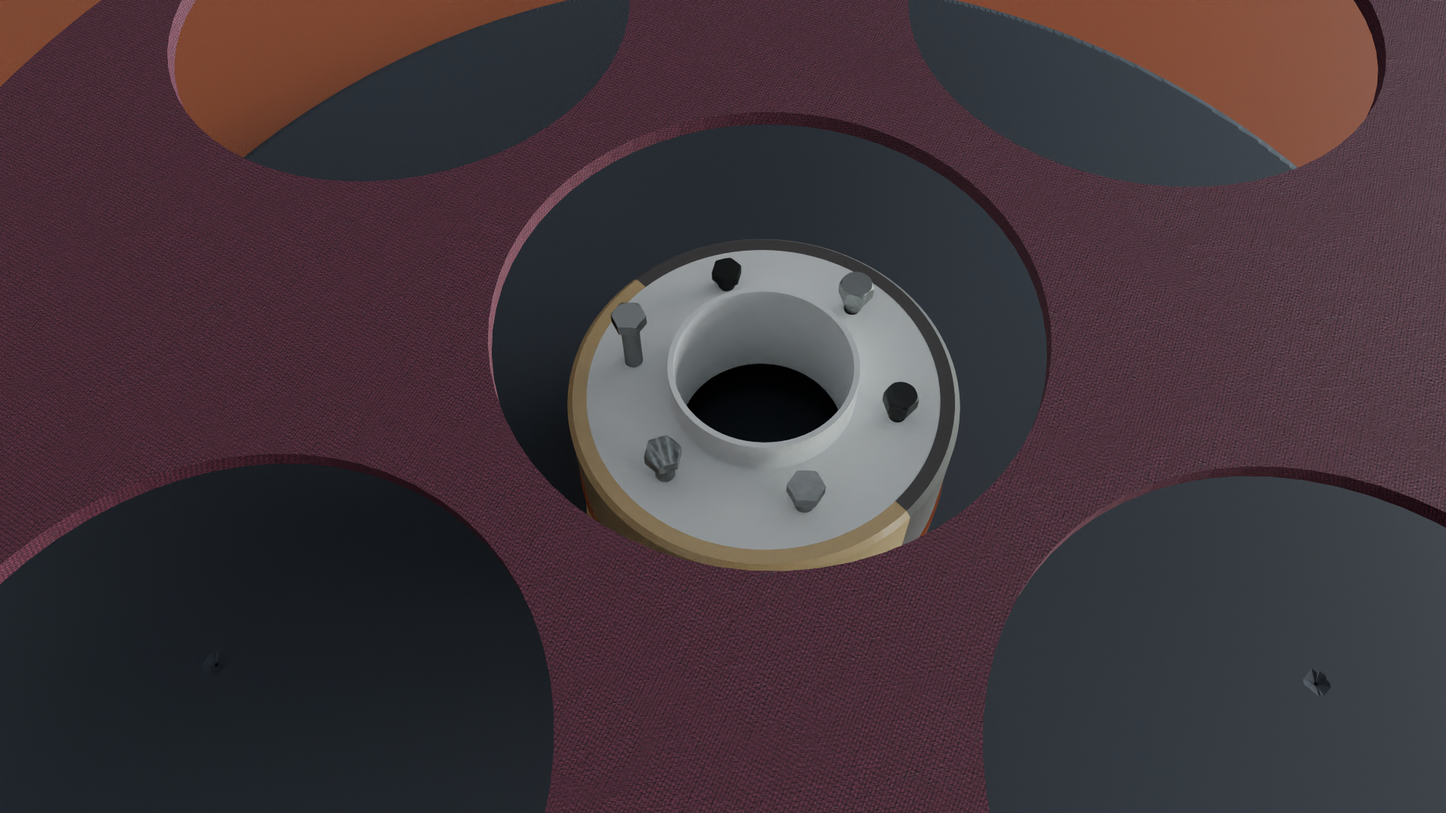bolt: (644, 435, 682, 468), (787, 470, 826, 501), (884, 382, 919, 412), (840, 272, 874, 300), (611, 303, 646, 328), (712, 257, 741, 282)
